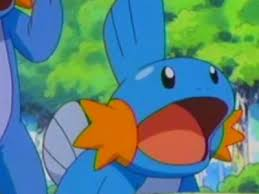mudkip: (43, 1, 246, 193)
